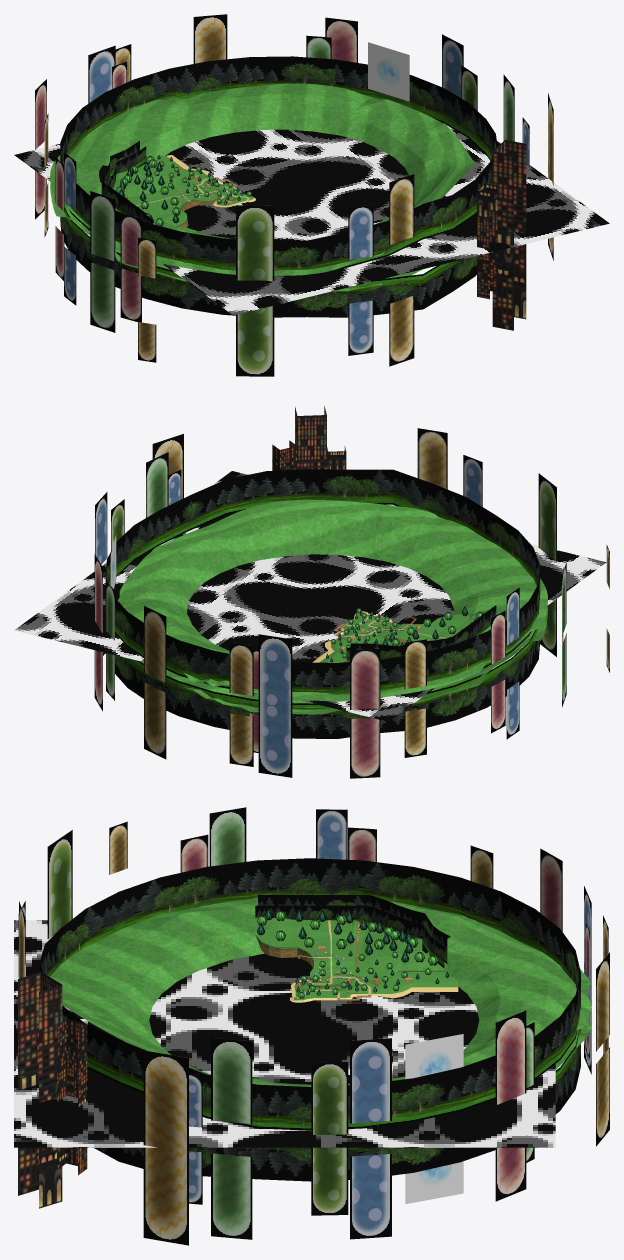
3 views of the same model, one above another, from view 1: azimuth 30°, elevation 25°; view 2: azimuth 150°, elevation 25°; view 3: azimuth 270°, elevation 25° (orthographic). The views are drawn at different scales.
Parts seen in each view (by area): view 1: backtrees, water.007, grass.009, mount5, backcity, mount1, mount2, mount4, mount3, moon, tree2, tree1; view 2: backtrees, grass.009, water.007, mount5, mount1, mount4, mount3, backcity, mount2, tree2, tree1; view 3: backtrees, water.007, grass.009, mount5, mount1, backcity, mount3, mount4, mount2, moon, tree2, tree1 (+2 smaller).
Boxes of the visible parts, x1,y1,x2,y2 form: backtrees: (60,56,497,317); water.007: (14,125,609,315); grass.009: (50,83,473,291); mount5: (44,14,553,366); backcity: (477,140,526,330); mount1: (64,34,529,355); mount2: (236,65,477,376); mount4: (35,17,357,322); mount3: (90,35,514,332); moon: (368,42,409,101); tree2: (116,156,251,226); tree1: (119,155,243,223); backtrees: (105,469,540,738); grass.009: (117,500,547,714); water.007: (14,471,606,721); mount5: (144,428,609,766); mount1: (95,455,519,777); mount4: (94,554,563,778); mount3: (106,452,566,707); backcity: (272,406,346,470); mount2: (111,473,556,656); tree2: (330,608,482,658); tree1: (326,606,484,662); backtrees: (39,858,580,1181); water.007: (14,920,555,1147); grass.009: (49,897,591,1086); mount5: (19,821,609,1245); mount1: (18,809,591,1239); backcity: (18,972,87,1208); mount3: (209,807,534,1239); mount4: (180,827,589,1201); mount2: (47,830,348,1215); moon: (405,1034,463,1204); tree2: (257,910,438,998); tree1: (257,908,449,995).
Bounding box in the file's own units: 588900 × 238477 × 565725.
24 materials, 24 textured.
